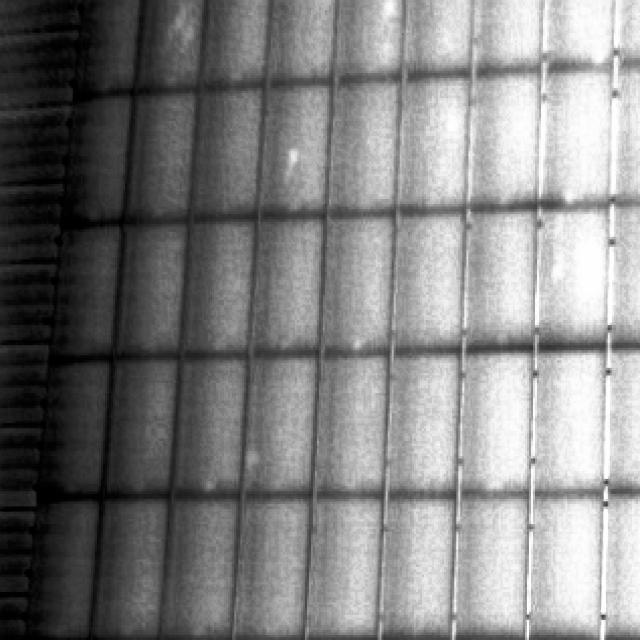PV-modules: (450, 494, 531, 640), (156, 496, 238, 640), (230, 496, 309, 640), (527, 494, 604, 640), (104, 354, 181, 499), (463, 350, 540, 494), (313, 494, 388, 640), (533, 349, 609, 493), (242, 352, 318, 496), (536, 210, 612, 354), (91, 496, 167, 640), (393, 212, 470, 354), (182, 217, 260, 357), (310, 353, 386, 496), (382, 494, 456, 640), (247, 214, 324, 354), (184, 86, 262, 224), (176, 355, 251, 498), (467, 211, 542, 353), (388, 352, 463, 494), (316, 213, 391, 355), (124, 92, 203, 226), (22, 499, 97, 640), (472, 73, 549, 210), (34, 354, 106, 500), (323, 80, 399, 218), (112, 220, 188, 358), (259, 83, 334, 219), (541, 73, 615, 209), (59, 96, 136, 226), (396, 77, 470, 212), (48, 224, 119, 360), (131, 0, 213, 95), (77, 0, 151, 99), (200, 0, 278, 91), (403, 0, 482, 89), (332, 3, 408, 88), (597, 491, 640, 639), (264, 0, 334, 89), (601, 347, 640, 491), (474, 0, 552, 72), (542, 0, 618, 72), (603, 209, 640, 350), (607, 70, 640, 206), (611, 0, 640, 65), (143, 637, 224, 640), (81, 637, 157, 640)
